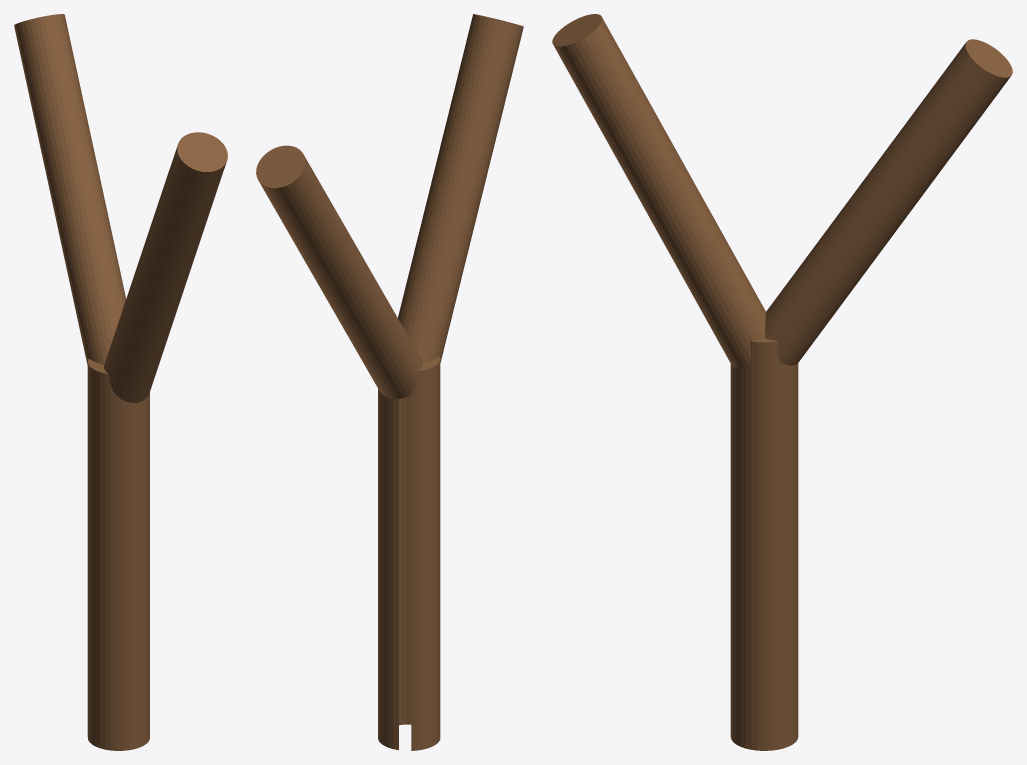
File: mdl_SlingshotHandle.fbx
3 renders of one model, left to right at view 1: azimuth 30°, elevation 25°; view 2: azimuth 150°, elevation 25°; view 3: azimuth 270°, elevation 25°, orthographic. The views are drawn at different scales.
Parts seen in each view (by area): view 1: slingshot_hanle; view 2: slingshot_hanle; view 3: slingshot_hanle.
Boxes of the visible parts, left/top/right/bottom form: slingshot_hanle: left=14, top=14, right=227, bottom=750; slingshot_hanle: left=256, top=14, right=523, bottom=750; slingshot_hanle: left=552, top=14, right=1012, bottom=750.
Bounding box in the file's own units: 32.63 × 281 × 163.
